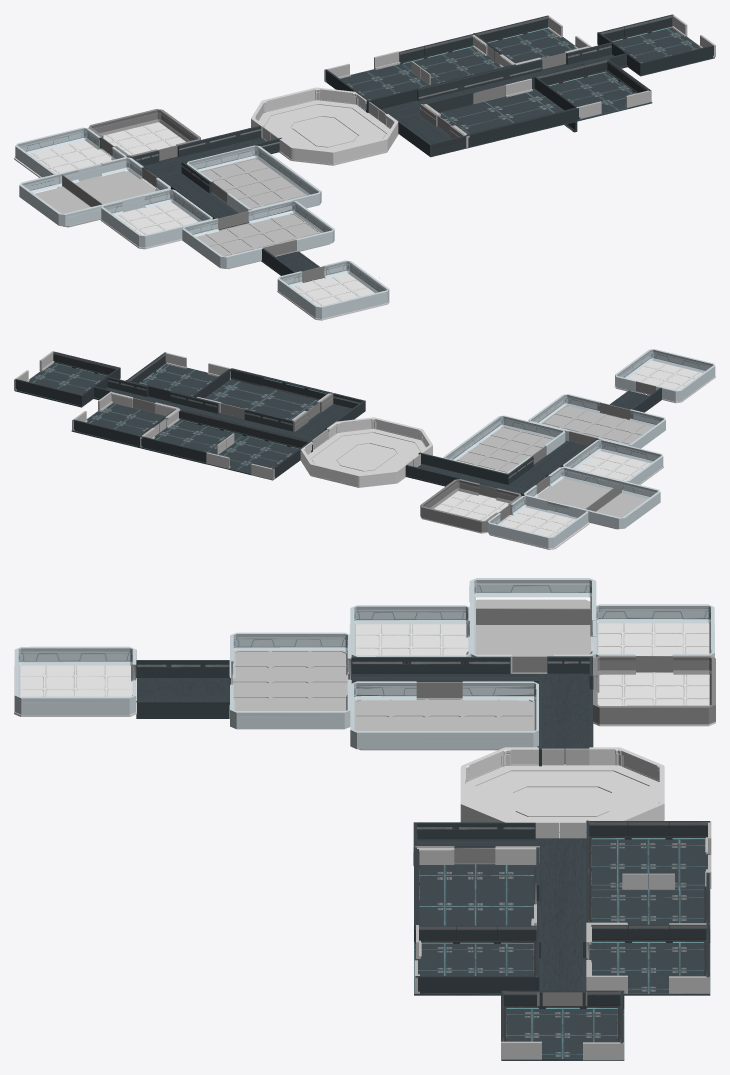
The model's file is Level_02_Full 1.FBX.
3 renders of one model, top to bottom at view 1: azimuth 30°, elevation 25°; view 2: azimuth 150°, elevation 25°; view 3: azimuth 270°, elevation 25°, orthographic. The views are drawn at different scales.
Visible parts, largest first — view 1: Box134, Labor_008, Box149, Labor_Boden_011, Labor_Boden_012, Labor_Wand_005, Box157, Labor_006, Box152, Labor_Boden_006, Labor_007, Labor_004 (+25 smaller); view 2: Box134, Labor_Wand_005, Box149, Labor_Boden_011, Labor_Boden_012, Box157, Labor_006, Labor_Boden_006, Labor_004, Labor_Wand_004, Flur_Boden_005, Labor_007 (+29 smaller); view 3: Box134, Flur_Boden_004, Box149, Labor_Boden_012, Labor_007, Labor_Boden_011, Flur_Boden_005, Labor_006, Labor_008, Box135, Box152, Box138 (+26 smaller).
Boxes of the visible parts, box(x1,y1,x2,y2) form: Box134: box(259, 100, 398, 165); Labor_008: box(182, 200, 334, 268); Box149: box(439, 89, 577, 148); Labor_Boden_011: box(200, 158, 306, 208); Labor_Boden_012: box(196, 213, 329, 269); Labor_Wand_005: box(19, 157, 170, 226); Box157: box(597, 14, 715, 75); Labor_006: box(277, 260, 389, 318); Box152: box(534, 58, 651, 119); Labor_Boden_006: box(35, 171, 155, 227); Labor_007: box(186, 145, 321, 213); Labor_004: box(15, 127, 126, 183); Box134: box(300, 428, 425, 487); Labor_Wand_005: box(524, 466, 660, 529); Box149: box(205, 379, 317, 419); Labor_Boden_011: box(456, 426, 552, 472); Labor_Boden_012: box(541, 405, 652, 444); Box157: box(14, 351, 120, 406); Labor_006: box(615, 349, 715, 401); Labor_Boden_006: box(537, 478, 647, 529); Labor_004: box(488, 496, 588, 548); Labor_Wand_004: box(420, 479, 521, 532); Flur_Boden_005: box(405, 440, 585, 492); Labor_007: box(443, 415, 565, 473); Box134: box(460, 764, 659, 838); Flur_Boden_004: box(417, 838, 587, 990); Box149: box(419, 864, 536, 925); Labor_Boden_012: box(231, 650, 348, 710); Labor_007: box(350, 681, 538, 749); Labor_Boden_011: box(355, 698, 534, 750); Flur_Boden_005: box(348, 673, 593, 763); Labor_006: box(14, 646, 136, 714); Labor_008: box(230, 632, 351, 729); Box135: box(591, 839, 709, 889); Box152: box(414, 925, 539, 993); Box138: box(589, 943, 710, 995).
Size of the model in its own units: 179 by 6.07 by 114.
